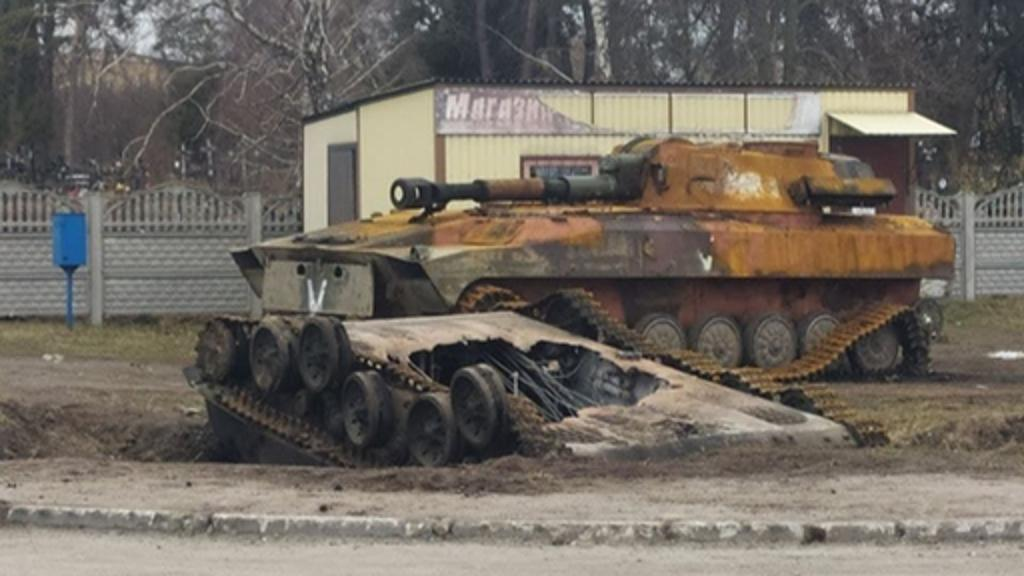ART: (238, 124, 954, 398)
